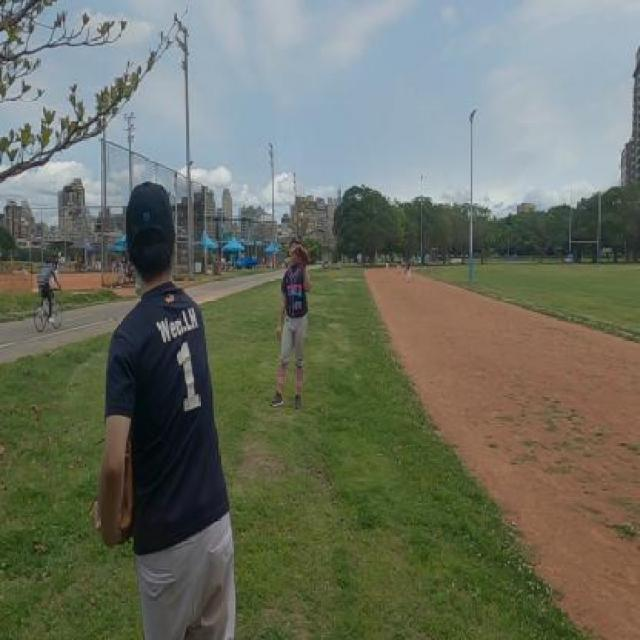baseball: (298, 212, 304, 220)
